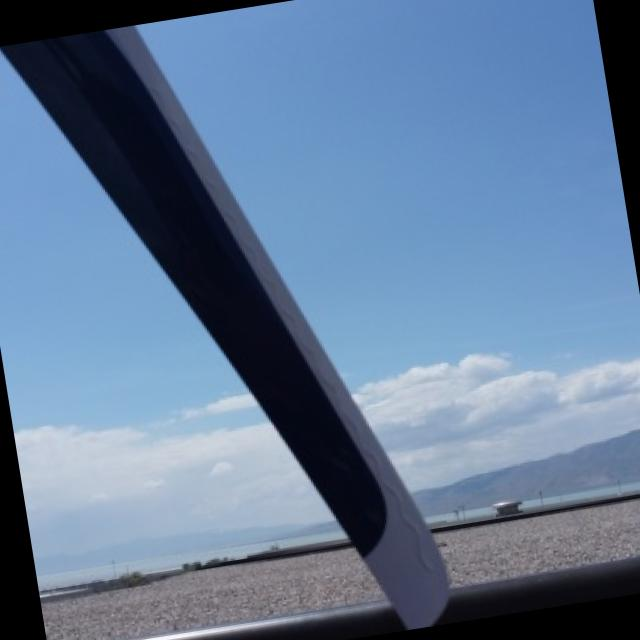healthy: (144, 0, 640, 380), (447, 559, 640, 621)
